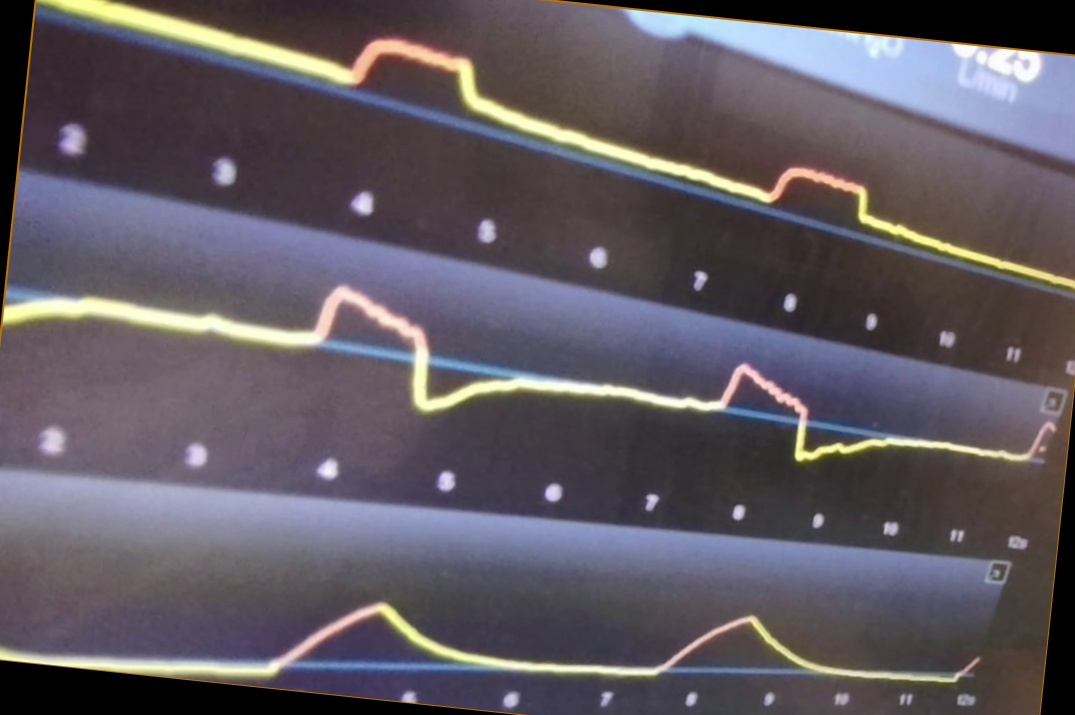Accumulation Flow: (13, 285, 1027, 464)
Volume: (1, 583, 977, 685)
